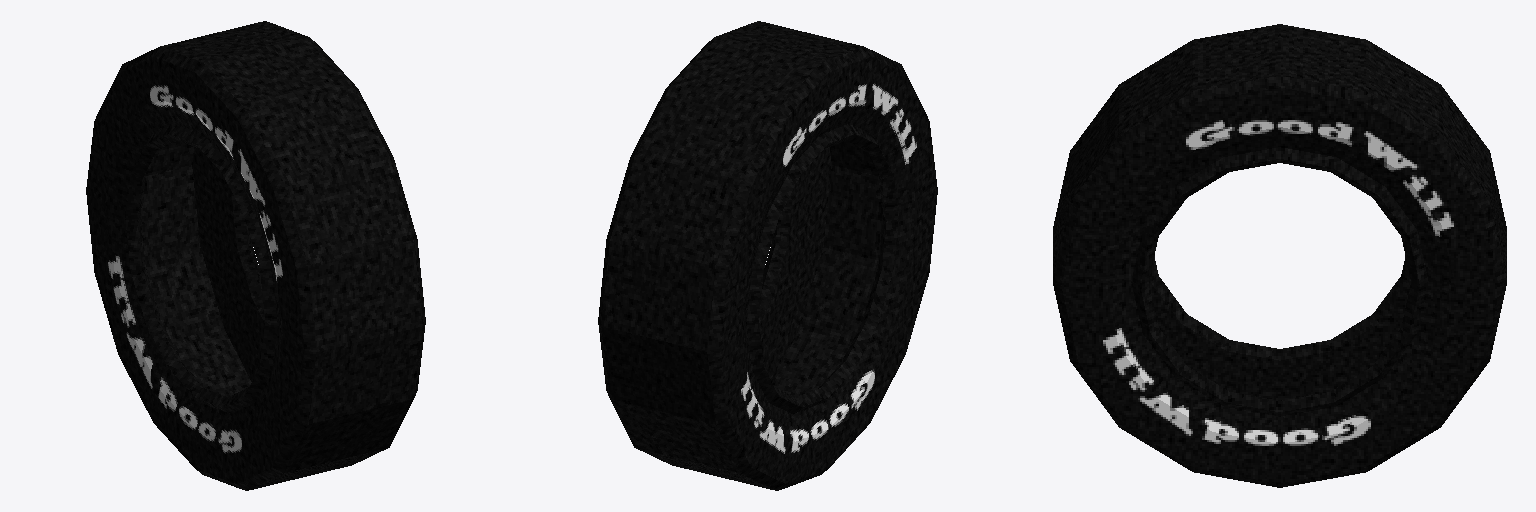
3 renders of one model, left to right at view 1: azimuth 30°, elevation 25°; view 2: azimuth 150°, elevation 25°; view 3: azimuth 270°, elevation 25°, orthographic.
Visible parts, largest first — view 1: Line001; view 2: Line001; view 3: Line001.
Boxes of the visible parts, x1=… form: Line001: x1=86, y1=21, x2=425, y2=490; Line001: x1=598, y1=21, x2=937, y2=490; Line001: x1=1053, y1=24, x2=1506, y2=487.
Size of the model in its own units: 1.6 by 5.2 by 5.2.
1 materials, 1 textured.